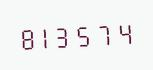eight: (17, 23, 35, 52)
five: (75, 20, 93, 49)
four: (113, 18, 131, 47)
one: (36, 22, 54, 51)
seven: (94, 19, 112, 48)
three: (56, 21, 74, 50)
